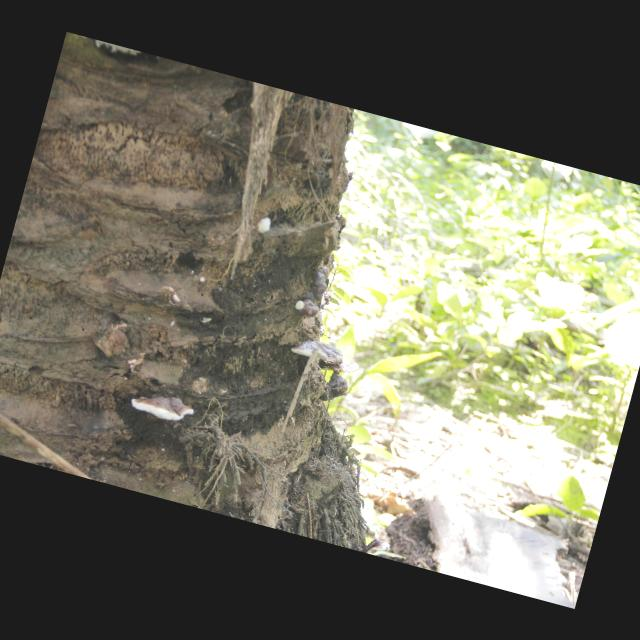ganoderma: (129, 387, 197, 428), (302, 264, 336, 321), (291, 336, 347, 368), (317, 352, 361, 379)
primordium: (254, 216, 274, 237), (293, 299, 307, 314), (199, 278, 206, 285)
